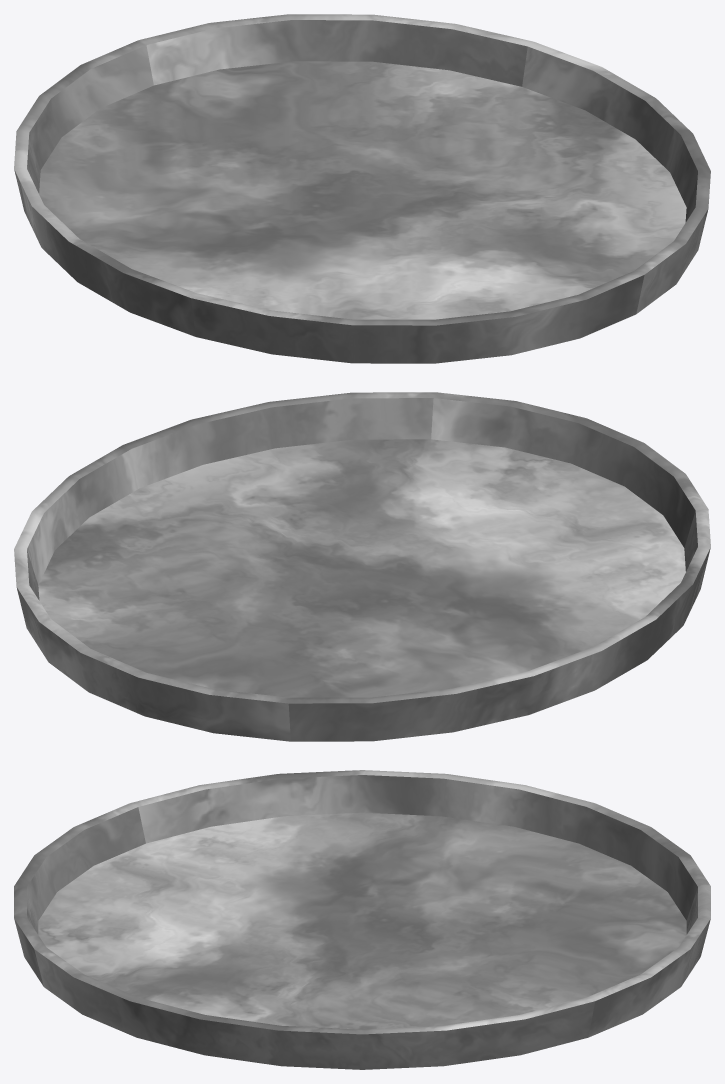
Rendered from SM_plate_01.fbx.
3 views of the same model, one above another, from view 1: azimuth 30°, elevation 25°; view 2: azimuth 150°, elevation 25°; view 3: azimuth 270°, elevation 25° (orthographic). The views are drawn at different scales.
Parts seen in each view (by area): view 1: SM_plate_01; view 2: SM_plate_01; view 3: SM_plate_01.
Part boxes in pixels (bbox=[...]): SM_plate_01: bbox=[14, 14, 710, 363]; SM_plate_01: bbox=[14, 392, 710, 741]; SM_plate_01: bbox=[14, 770, 710, 1069].
Size of the model in its own units: 29.27 by 32.61 by 2.09.
Materials: 1 (1 with a texture image).
